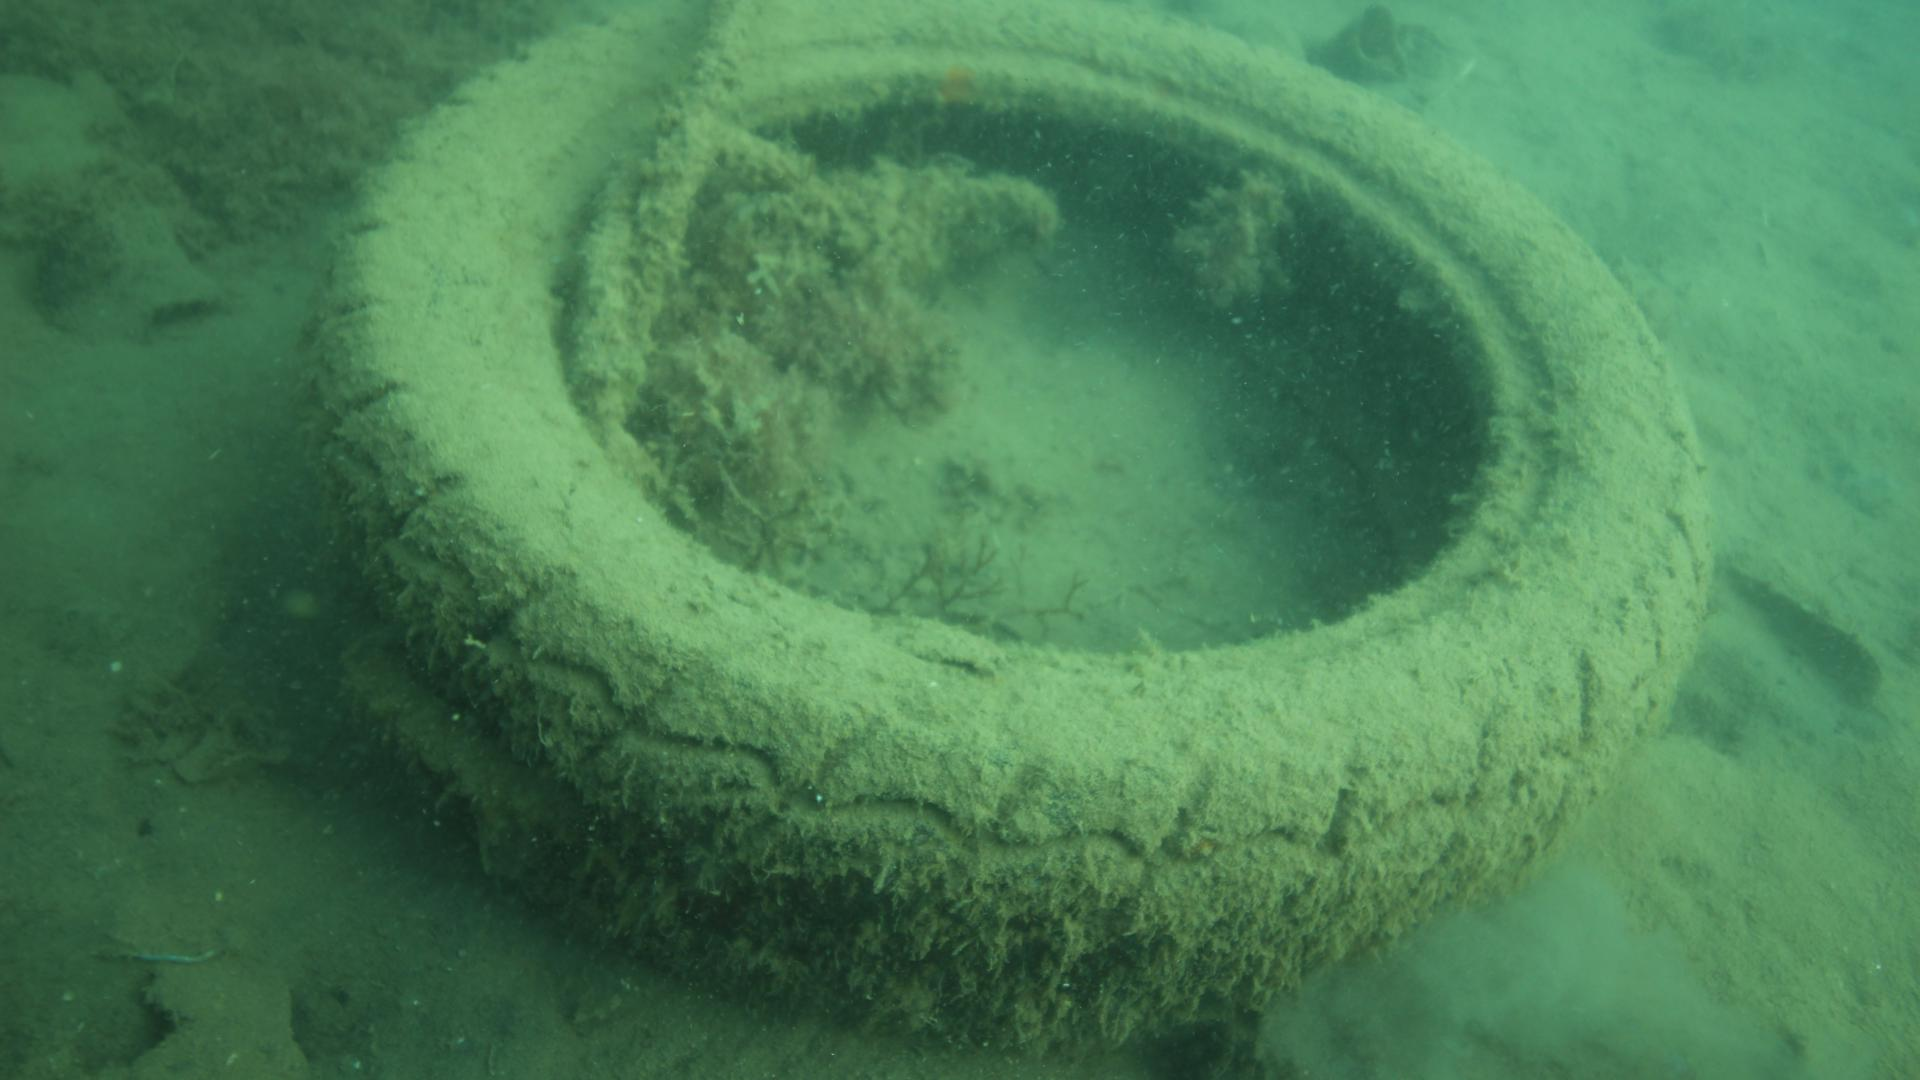tire: (295, 0, 1698, 1056)
